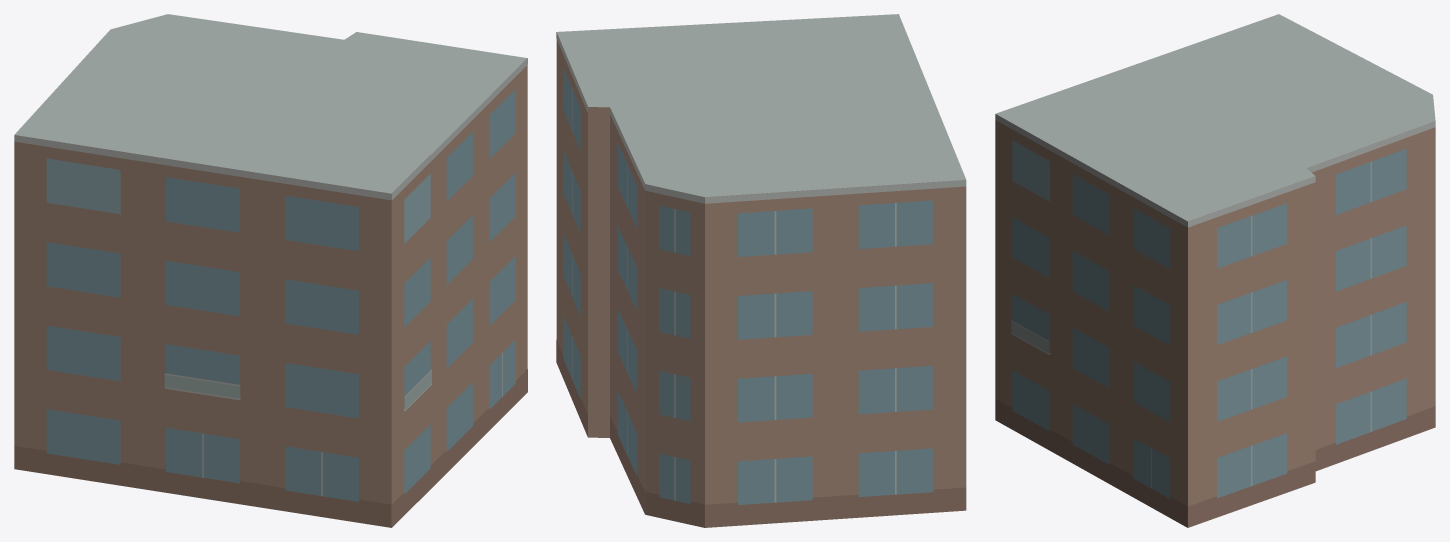
The model's file is survey-upis-32814717.glb.
3 renders of one model, left to right at view 1: azimuth 30°, elevation 25°; view 2: azimuth 150°, elevation 25°; view 3: azimuth 270°, elevation 25°, orthographic. The views are drawn at different scales.
Parts seen in each view (by area): view 1: survey-upis-32814717.tmp; view 2: survey-upis-32814717.tmp; view 3: survey-upis-32814717.tmp.
Boxes of the visible parts, <box> form: survey-upis-32814717.tmp: <box>14,14,527,527</box>; survey-upis-32814717.tmp: <box>556,14,966,527</box>; survey-upis-32814717.tmp: <box>995,14,1435,527</box>.
Size of the model in its own units: 17.73 by 12.2 by 15.9.
